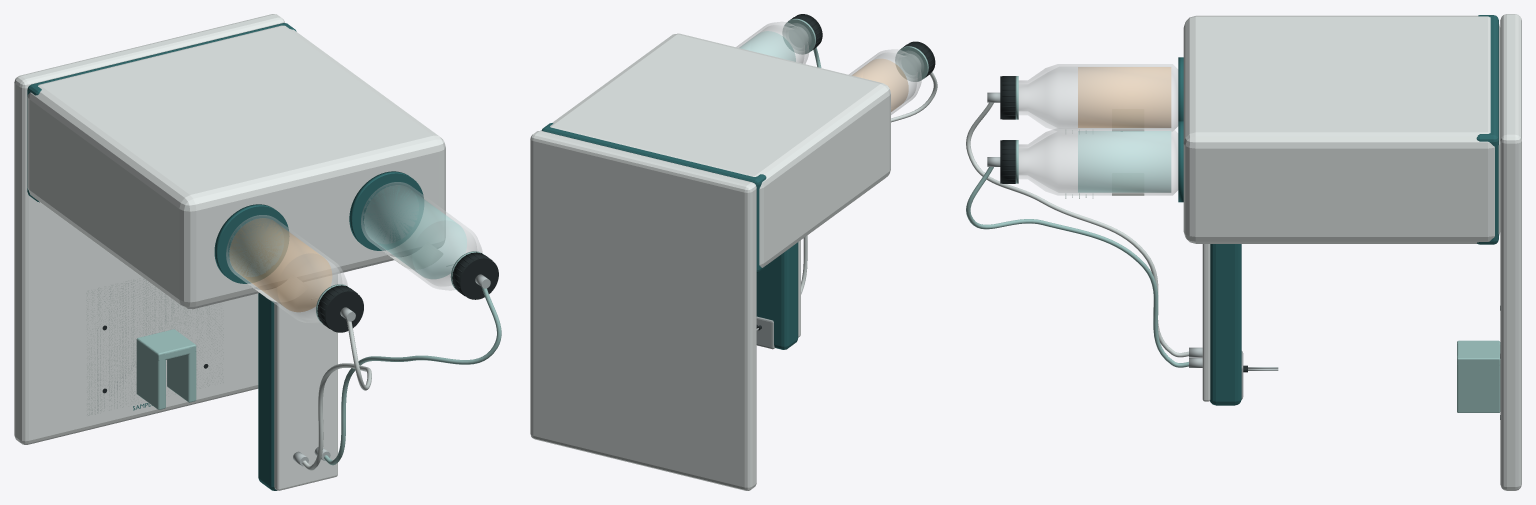
File: pipetting_station.glb
3 renders of one model, left to right at view 1: azimuth 30°, elevation 25°; view 2: azimuth 150°, elevation 25°; view 3: azimuth 270°, elevation 25°, orthographic. The views are drawn at different scales.
Parts seen in each view (by area): view 1: Pipetting rear housing, Pipetting enamel platform, Pipetting head cover, Pipetting teal bottle, Pipetting amber bottle, Pipetting amber liquid, Pipetting teal liquid, Pipetting amber reservoir seat, Pipetting teal reservoir seat, Pipetting receiving inset, Pipetting head, pipetting_holder_side_0 (+9 smaller); view 2: Pipetting enamel platform, Pipetting rear housing, Pipetting head, Pipetting amber bottle, Pipetting teal bottle, Pipetting lower plinth, Pipetting amber liquid, Pipetting teal liquid, Pipetting amber cap band, Pipetting teal cap band, Pipetting amber feed tube, Pipetting head nose; view 3: Pipetting rear housing, Pipetting enamel platform, Pipetting teal bottle, Pipetting amber bottle, Pipetting teal liquid, Pipetting amber liquid, Pipetting head, pipetting_holder_side_1, Pipetting teal feed tube, Pipetting lower plinth, Pipetting amber feed tube, Pipetting head cover (+5 smaller).
Part boxes in pixels (<box>): Pipetting rear housing: <box>27,25,445,309</box>; Pipetting enamel platform: <box>14,14,284,444</box>; Pipetting head cover: <box>274,274,337,490</box>; Pipetting teal bottle: <box>361,182,482,290</box>; Pipetting amber bottle: <box>226,215,347,322</box>; Pipetting amber liquid: <box>230,218,331,311</box>; Pipetting teal liquid: <box>365,185,466,278</box>; Pipetting amber reservoir seat: <box>214,204,289,283</box>; Pipetting teal reservoir seat: <box>349,171,423,250</box>; Pipetting receiving inset: <box>86,278,223,415</box>; Pipetting head: <box>258,293,277,490</box>; pipetting_holder_side_0: <box>136,336,165,409</box>; Pipetting enamel platform: <box>530,130,756,490</box>; Pipetting rear housing: <box>550,33,890,267</box>; Pipetting head: <box>756,242,798,349</box>; Pipetting amber bottle: <box>849,49,923,114</box>; Pipetting teal bottle: <box>736,22,811,63</box>; Pipetting lower plinth: <box>541,123,766,272</box>; Pipetting amber liquid: <box>852,59,908,111</box>; Pipetting teal liquid: <box>740,31,795,61</box>; Pipetting amber cap band: <box>895,46,928,81</box>; Pipetting teal cap band: <box>782,18,815,54</box>; Pipetting amber feed tube: <box>801,72,937,294</box>; Pipetting head nose: <box>756,316,774,349</box>; Pipetting rear housing: <box>1183,15,1500,243</box>; Pipetting enamel platform: <box>1500,14,1521,490</box>; Pipetting teal bottle: <box>1018,128,1177,195</box>; Pipetting amber bottle: <box>1018,64,1177,131</box>; Pipetting teal liquid: <box>1078,131,1170,192</box>; Pipetting amber liquid: <box>1078,67,1170,127</box>; Pipetting head: <box>1210,244,1241,405</box>; pipetting_holder_side_1: <box>1457,355,1500,412</box>; Pipetting teal feed tube: <box>966,167,1188,367</box>; Pipetting lower plinth: <box>1476,15,1498,244</box>; Pipetting amber feed tube: <box>966,102,1188,357</box>; Pipetting head cover: <box>1202,244,1210,401</box>.
Bounding box in the file's own units: 0.22 × 0.29 × 0.4108.
